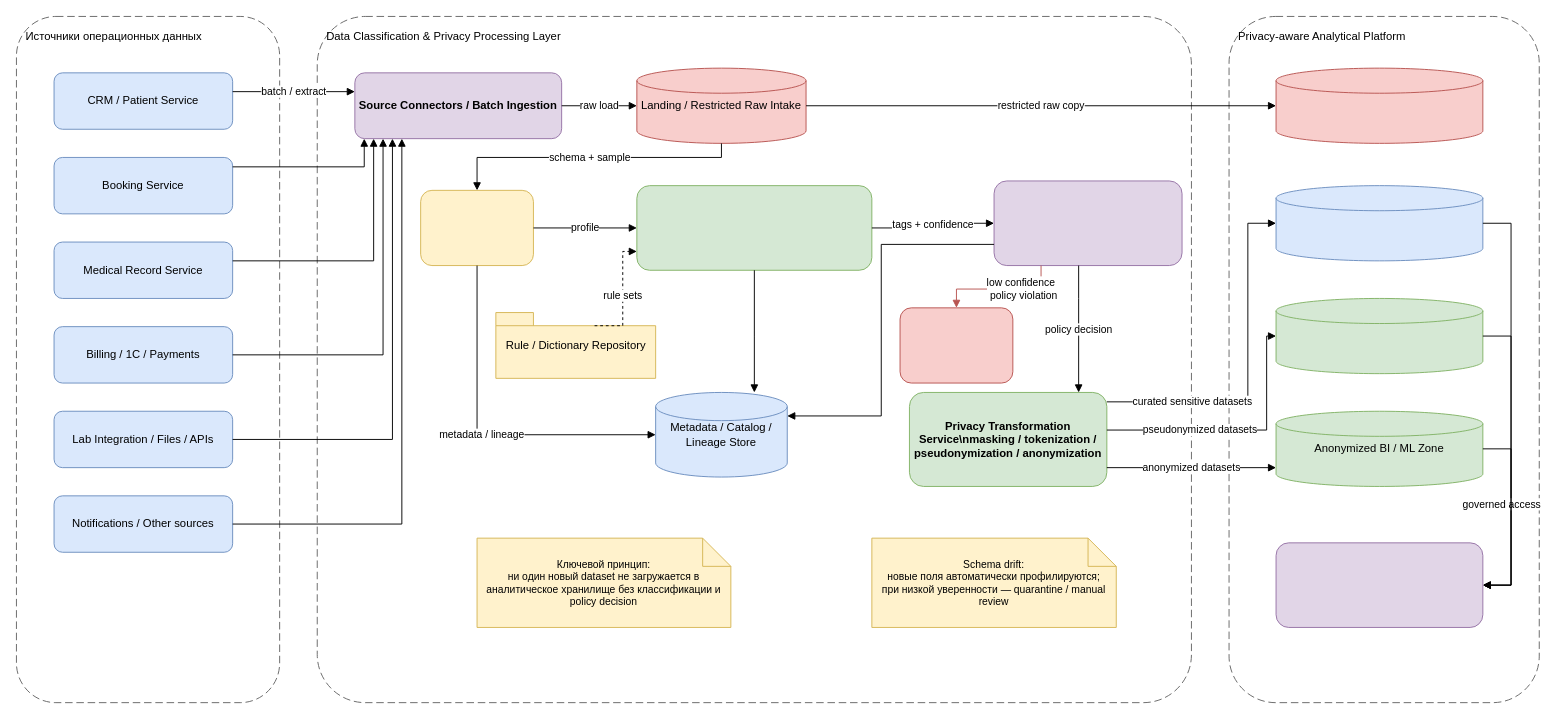
The diagram is 1557 pixels wide and 719 high, and some of its shapes have lost their labels. Each missing label, with the centre of its shape:
"Classification Engine\nrule-based + dictionaries + ML" goes at (x=754, y=227).
"Controlled Access Layer BI / ML / AI / Analysts" goes at (x=1379, y=584).
"Manual Review / Quarantine Queue" goes at (x=956, y=345).
"Privacy Policy Engine\nallow / transform / quarantine" goes at (x=1087, y=223).
"Pseudonymized Analytics Zone" goes at (x=1379, y=336).
"Restricted Raw Zone" goes at (x=1379, y=105).
"Schema Registry & Profiler" goes at (x=476, y=227).
"Trusted Curated Zone" goes at (x=1379, y=223).
